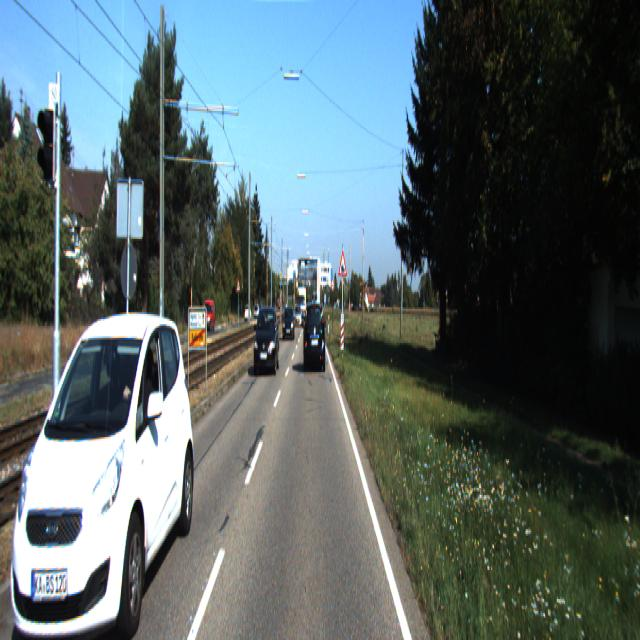Car: (2, 317, 202, 638), (254, 306, 280, 378), (304, 300, 326, 373), (282, 304, 296, 340), (202, 299, 216, 333)
DontCare: (243, 301, 254, 320)
